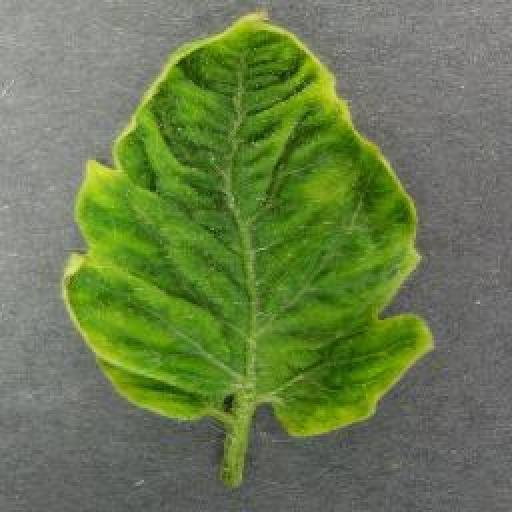Yellow Leaf Curl Virus: (64, 9, 435, 435)
